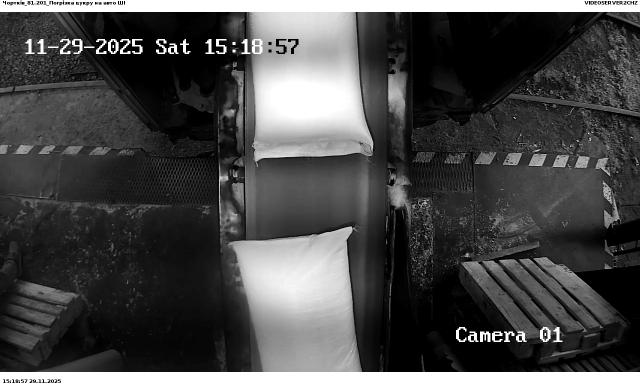bag: (229, 226, 373, 372), (252, 12, 374, 162)
